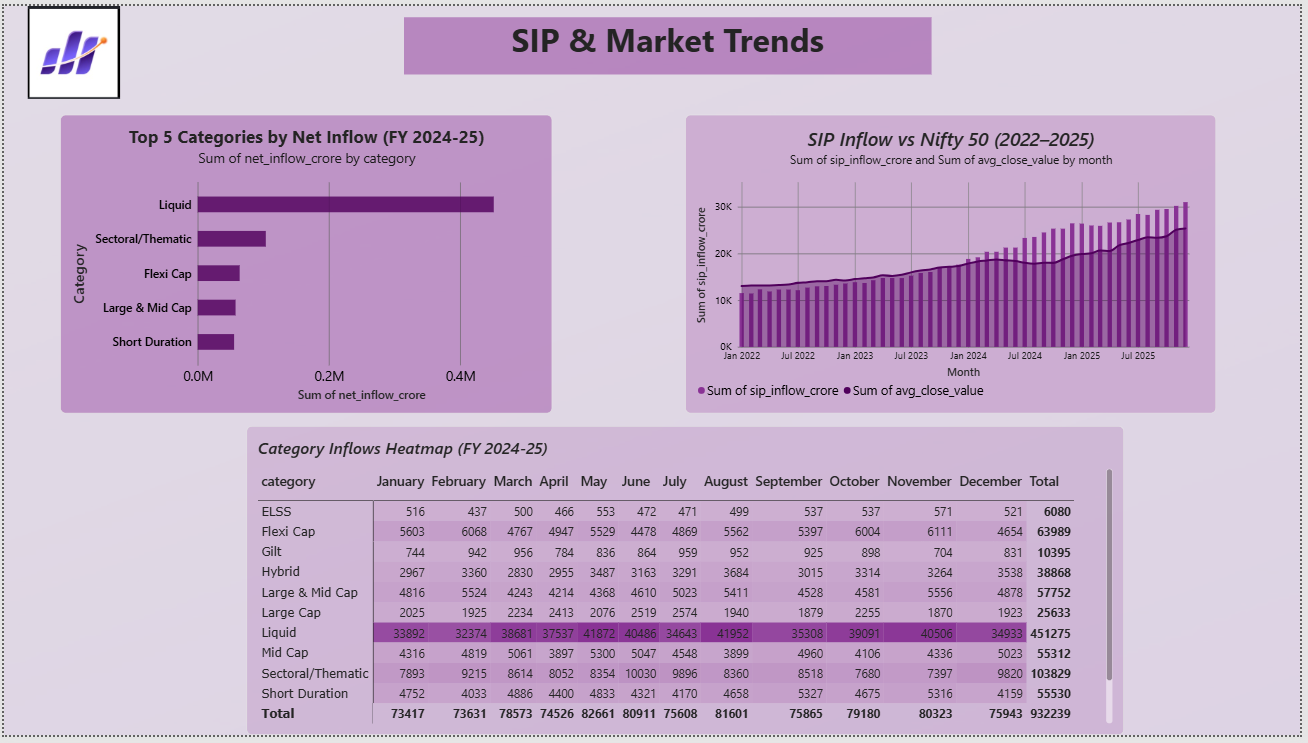

Layout of this report page (visuals, bound fields, positions):
{"tool":"powerbi","page":{"name":"SIP & Market Trends","canvas":[1920,1080],"ordinal":3},"visuals":[{"type":"lineStackedColumnComboChart","title":"SIP Inflow vs Nifty 50 (2022–2025)","fields":{"Category":["04_monthly_sip_inflows.month"],"Y":["Sum(04_monthly_sip_inflows.sip_inflow_crore)"],"Y2":["Sum(10_benchmark_indices_monthly.avg_close_value)"]},"box":[1010.2,161,786.4,442.4],"z":0},{"type":"pivotTable","title":"Category Inflows Heatmap (FY 2024-25)","fields":{"Columns":["05_category_inflows.month.Variation.Date Hierarchy.Month"],"Rows":["05_category_inflows.category"],"Values":["Sum(05_category_inflows.net_inflow_crore)"]},"box":[359.3,622,1300,457.6],"z":1},{"type":"clusteredBarChart","title":"Top 5 Categories by Net Inflow (FY 2024-25)","fields":{"Category":["05_category_inflows.category"],"Y":["Sum(05_category_inflows.net_inflow_crore)"]},"box":[83.1,161,728.8,442.4],"z":2},{"type":"image","box":[35.6,0,137.3,137.3],"z":3},{"type":"textbox","box":[593.2,16.9,781.4,84.7],"z":4}]}

Visuals, with their boxes in screenshot pixels (x1, y1, x2, y2), scaled from the page's 1920x1080 canvas onto the 1308x743 screenshot:
"SIP Inflow vs Nifty 50 (2022–2025)" lineStackedColumnComboChart: (x1=688, y1=111, x2=1224, y2=415)
"Category Inflows Heatmap (FY 2024-25)" pivotTable: (x1=245, y1=428, x2=1130, y2=742)
"Top 5 Categories by Net Inflow (FY 2024-25)" clusteredBarChart: (x1=57, y1=111, x2=553, y2=415)
image: (x1=24, y1=0, x2=118, y2=94)
textbox: (x1=404, y1=12, x2=936, y2=70)
